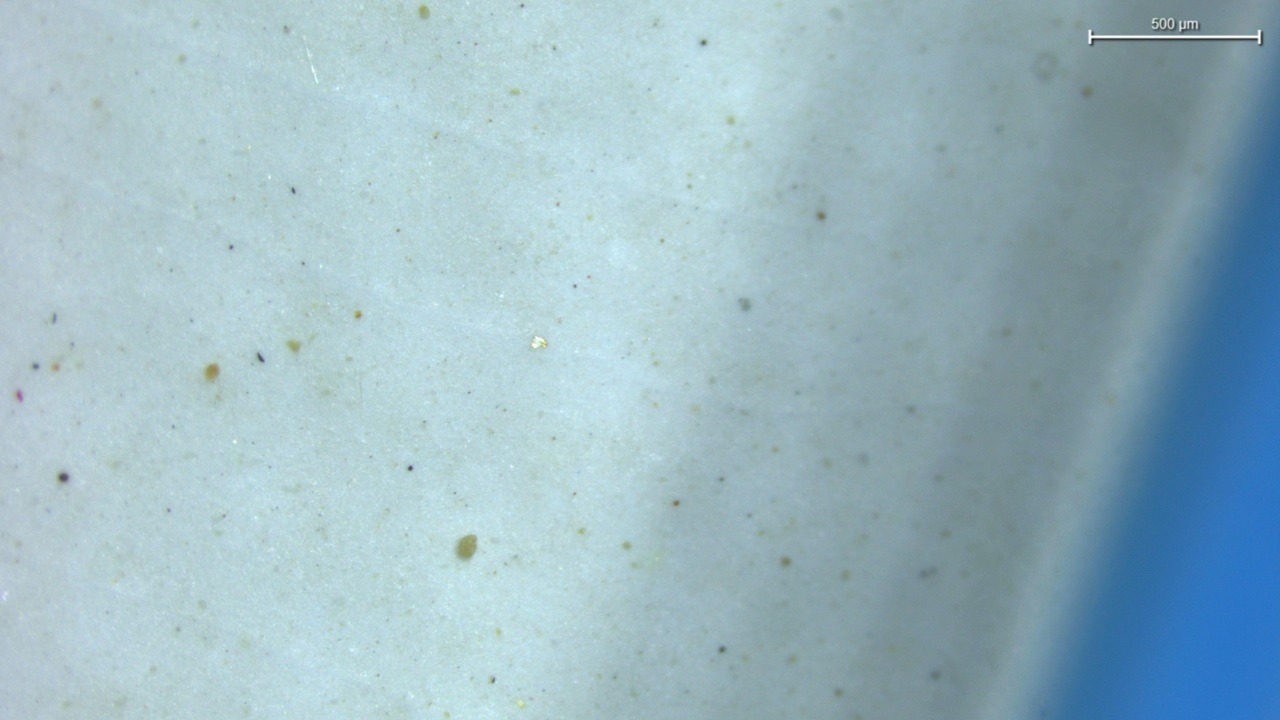microplastic_fragment: (531, 336, 548, 348)
